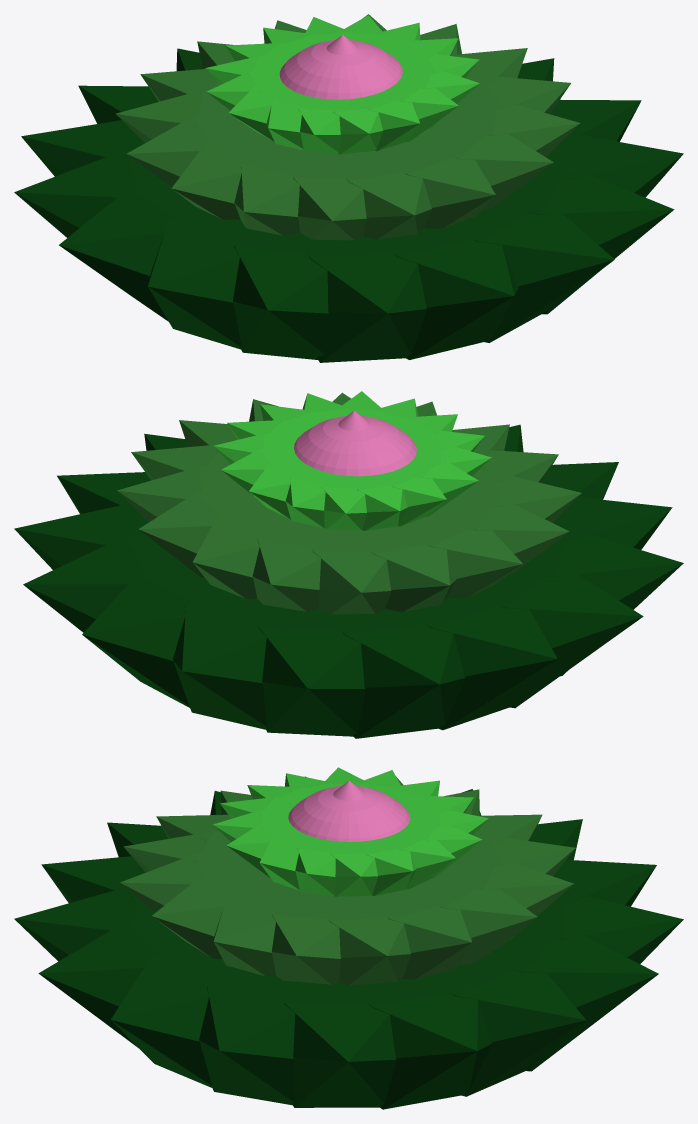
Rendered from Pointy_bush.fbx.
The picture shows the model from 3 angles, top to bottom: view 1: azimuth 30°, elevation 25°; view 2: azimuth 150°, elevation 25°; view 3: azimuth 270°, elevation 25°; orthographic projection.
Parts seen in each view (by area): view 1: Cube, Cube.001, Cube.002, Sphere; view 2: Cube, Cube.001, Cube.002, Sphere; view 3: Cube, Cube.001, Cube.002, Sphere.
Part boxes in pixels (<box>): Cube: <box>14,48,683,362</box>; Cube.001: <box>115,14,580,240</box>; Cube.002: <box>205,15,479,154</box>; Sphere: <box>279,34,402,99</box>; Cube: <box>14,424,683,738</box>; Cube.001: <box>117,392,581,614</box>; Cube.002: <box>213,391,491,530</box>; Sphere: <box>294,410,416,476</box>; Cube: <box>14,789,683,1109</box>; Cube.001: <box>120,776,575,985</box>; Cube.002: <box>213,767,488,896</box>; Sphere: <box>288,780,410,841</box>.
Bounding box in the file's own units: 447 × 172 × 447.
